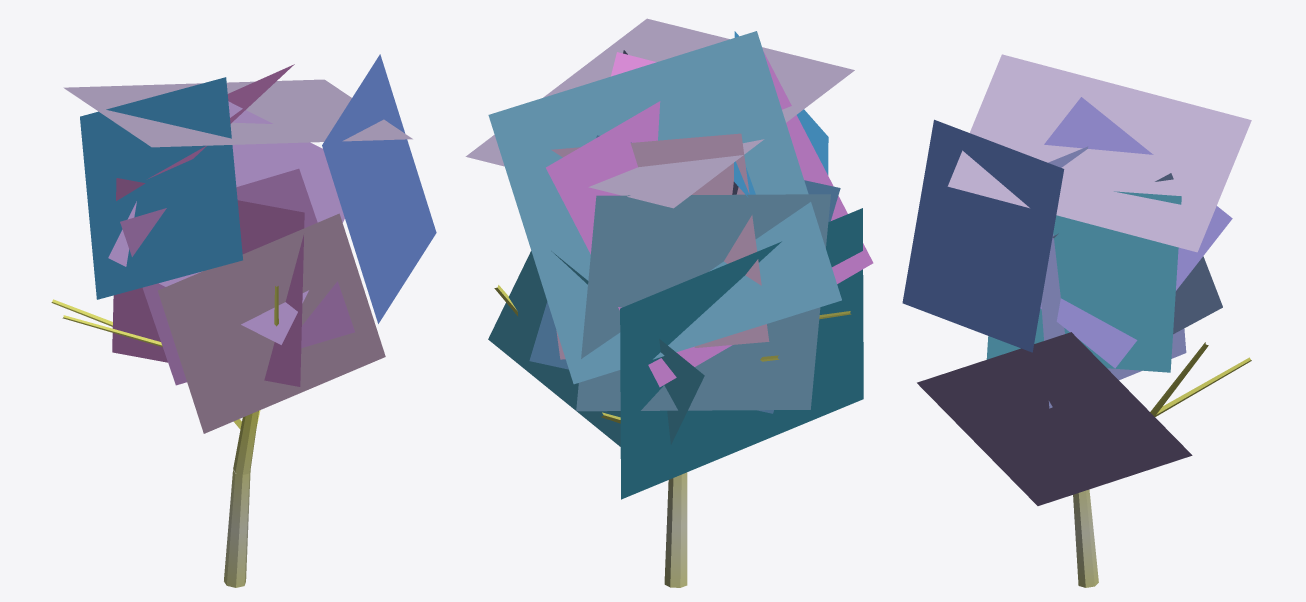
Rendered from tree_oak_2.glb.
3 views of the same model, side by side, from view 1: azimuth 30°, elevation 25°; view 2: azimuth 150°, elevation 25°; view 3: azimuth 270°, elevation 25° (orthographic). The views are drawn at different scales.
Parts seen in each view (by area): view 1: tree_oak_2; view 2: tree_oak_2; view 3: tree_oak_2.
Boxes of the visible parts, box(x1,y1,x2,y2) form: tree_oak_2: box(51, 54, 436, 587); tree_oak_2: box(465, 18, 873, 587); tree_oak_2: box(902, 54, 1251, 587).
Size of the model in its own units: 7.31 by 10.72 by 7.11.
